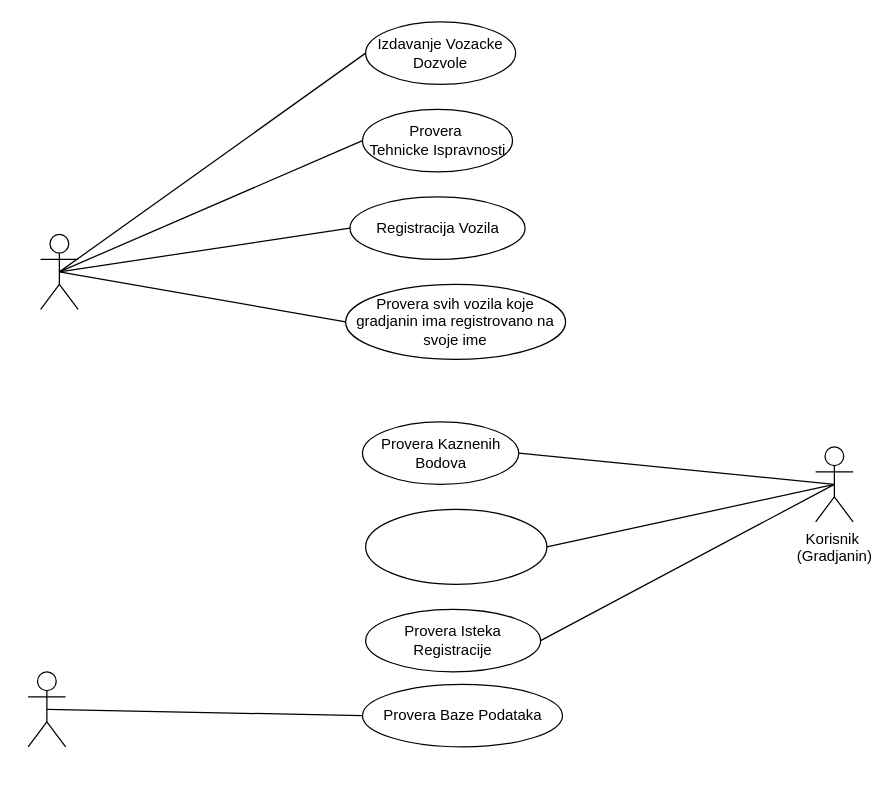
This 894x795 diagram has some shape labels left out. The box of each missing label's shape, as (x1, y1, x2, y2) in pixels:
MUP (Zaposleni): (39, 233, 78, 309)
Provera Isteka Kaznenih Bodova: (364, 508, 547, 584)
Sistem: (27, 671, 66, 747)
